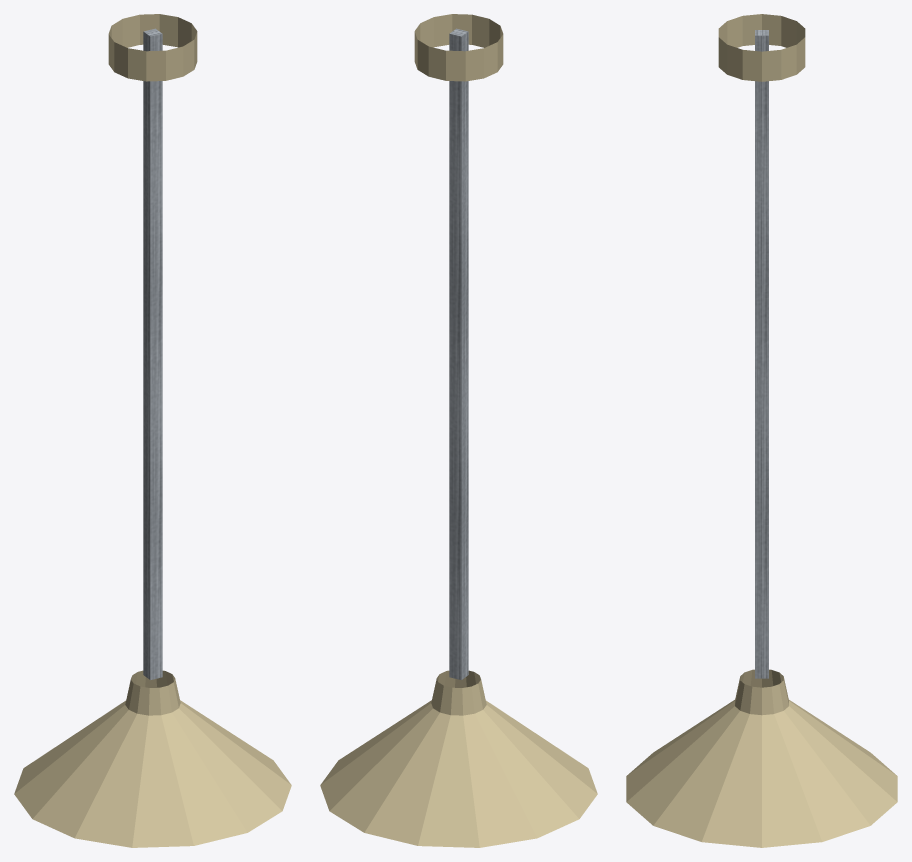
Rendered from gallery-pendant.glb.
3 views of the same model, side by side, from view 1: azimuth 30°, elevation 25°; view 2: azimuth 150°, elevation 25°; view 3: azimuth 270°, elevation 25° (orthographic).
Parts seen in each view (by area): view 1: gallery-pendant; view 2: gallery-pendant; view 3: gallery-pendant.
Part boxes in pixels (left/top/right/bottom): gallery-pendant: left=14, top=14, right=291, bottom=847; gallery-pendant: left=320, top=14, right=597, bottom=847; gallery-pendant: left=626, top=14, right=897, bottom=847.
Size of the model in its own units: 1 by 3.05 by 0.9749.
Materials: 4 (2 with a texture image).
